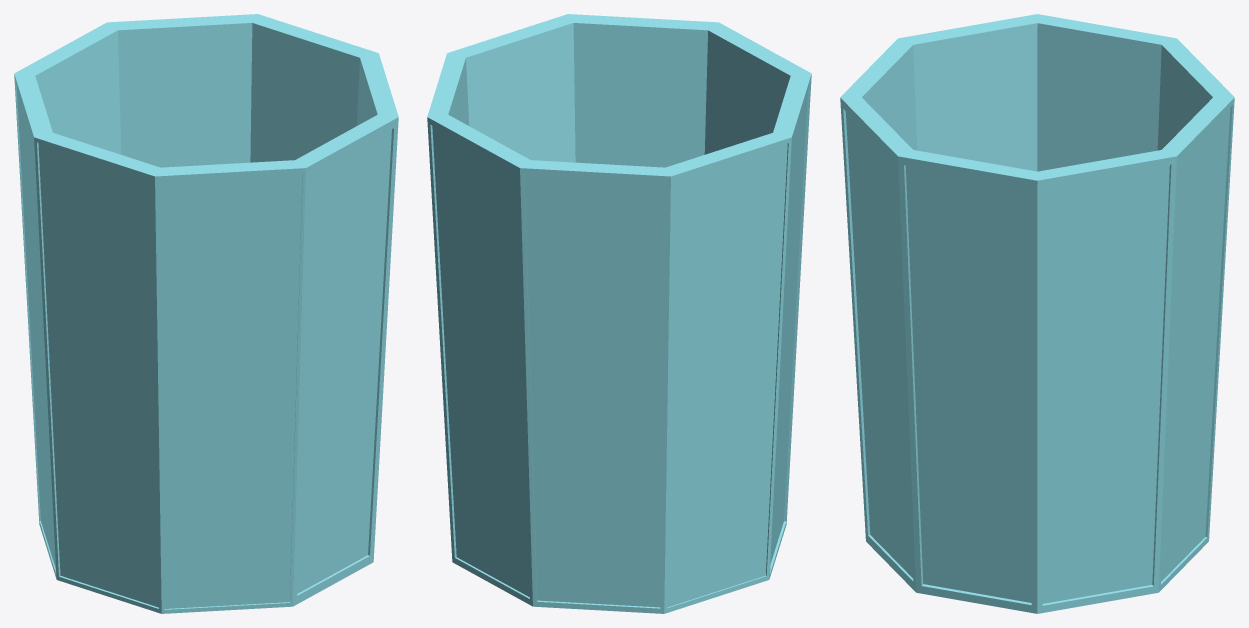
File: cup c.fbx
The picture shows the model from 3 angles, left to right: view 1: azimuth 30°, elevation 25°; view 2: azimuth 150°, elevation 25°; view 3: azimuth 270°, elevation 25°; orthographic projection.
Visible parts, largest first — view 1: Cylinder; view 2: Cylinder; view 3: Cylinder.
Part boxes in pixels (x1,y1,x2,y2): Cylinder: (14,14,398,613); Cylinder: (427,14,811,613); Cylinder: (840,14,1234,613).
Size of the model in its own units: 8.05 by 10 by 8.05.
